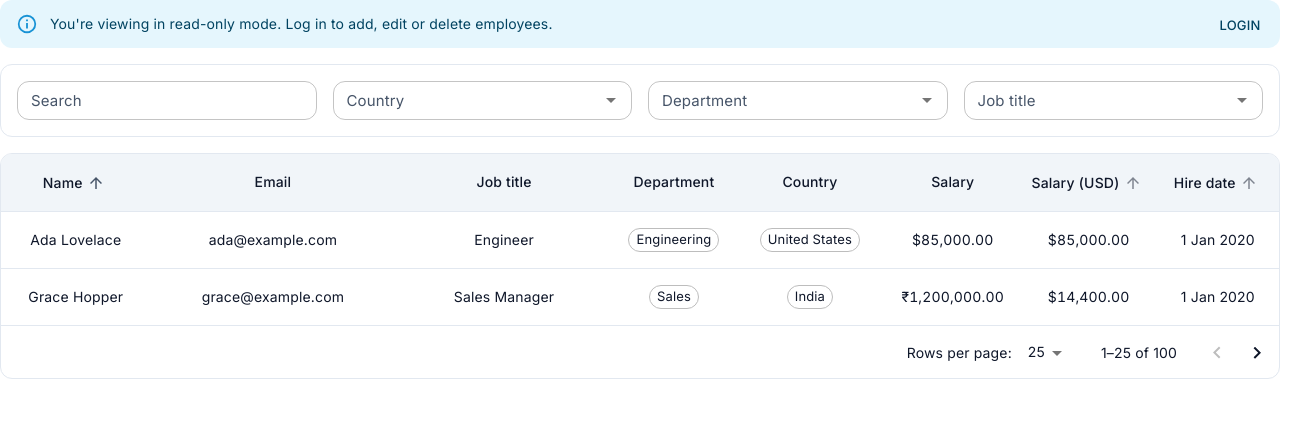
Scenario: EmployeeTable filters › search box shows a clear button once it has text; clearing it drops q and resets to page 1
Type "ada" into the field labelled "Search" at (167, 100), box left=17, top=81, right=316, bottom=120
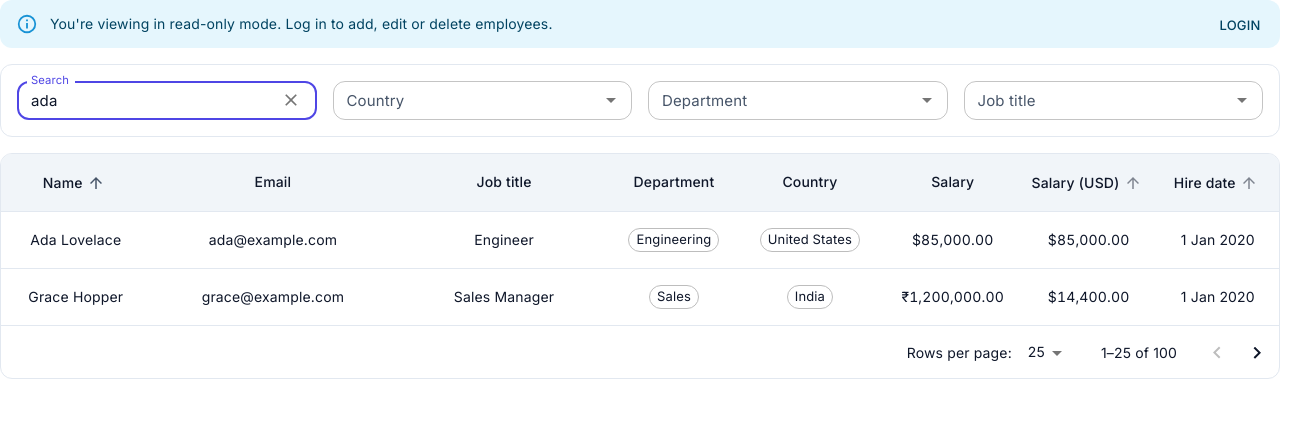
Click the button named "next page" at (1257, 353), box left=1237, top=333, right=1277, bottom=373
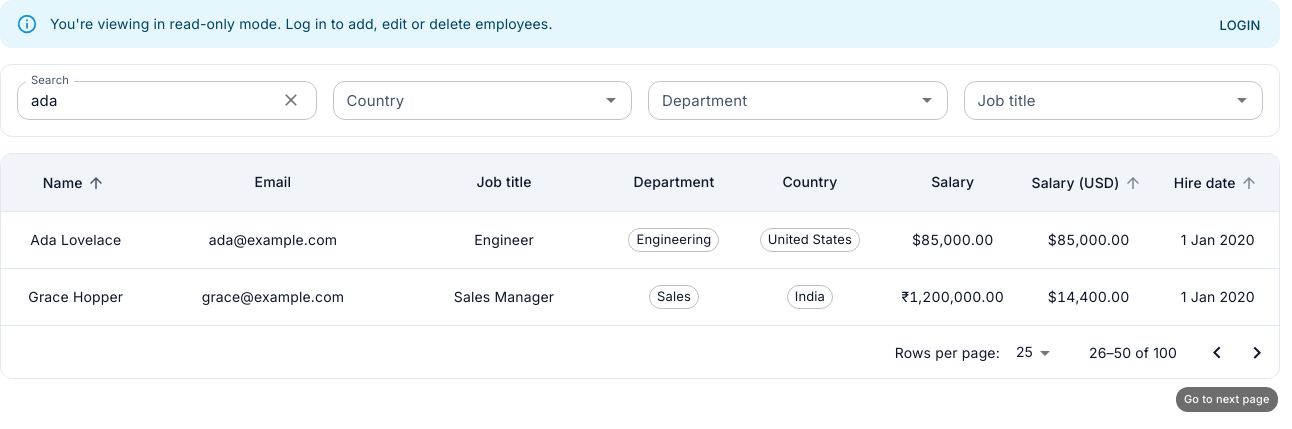
Click the button named "clear search" at (290, 100), box left=276, top=85, right=306, bottom=115
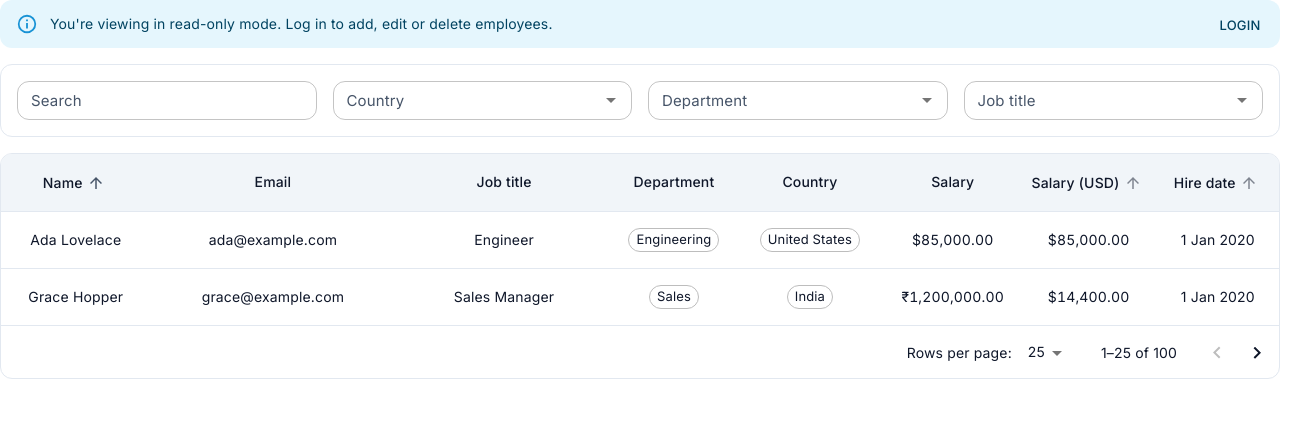
Now the field labelled "Search" is empty, box left=17, top=81, right=316, bottom=120
